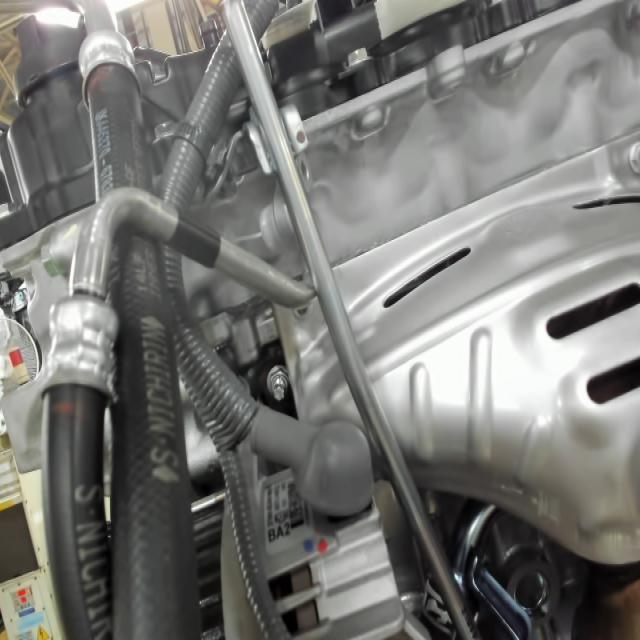Alternator-BA2: (259, 515, 304, 548)
Hose Discharge-HT: (165, 207, 225, 270)
